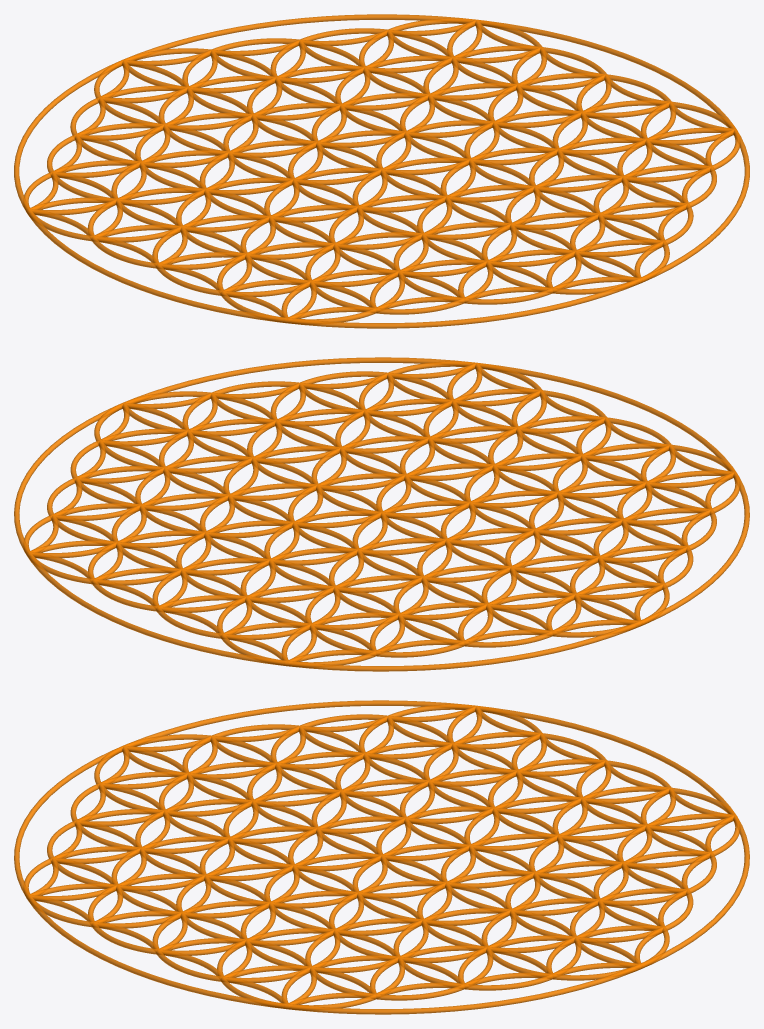
File: floweroflife2d.glb
3 renders of one model, top to bottom at view 1: azimuth 30°, elevation 25°; view 2: azimuth 150°, elevation 25°; view 3: azimuth 270°, elevation 25°, orthographic.
Bounding box in the file's own units: 7.25 × 0.054 × 7.25.
